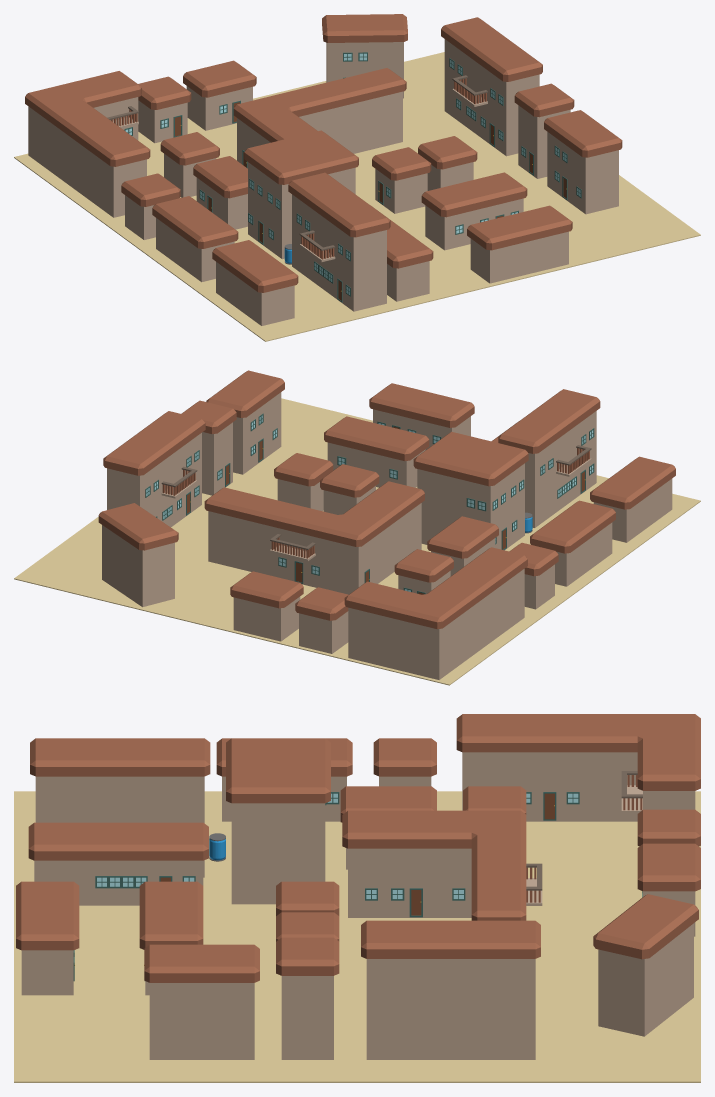
Rendered from Level_1.gltf.
3 views of the same model, one above another, from view 1: azimuth 30°, elevation 25°; view 2: azimuth 150°, elevation 25°; view 3: azimuth 270°, elevation 25° (orthographic). The views are drawn at different scales.
Parts seen in each view (by area): view 1: Floor, Roof.004, Base.006, Roof.012, Base.004, Base.016, Base.014, Roof.009, Base.022, Roof.005, Roof.014, Base.018 (+31 smaller); view 2: Floor, Roof.012, Roof.004, Base.004, Base.010, Base.014, Base.013, Base.006, Base.015, Base.016, Roof.009, Roof.014 (+28 smaller); view 3: Floor, Base.016, Roof.004, Roof.012, Base.004, Base.010, Base.022, Base.006, Base.013, Base.015, Roof.005, Roof.008 (+21 smaller).
Boxes of the visible parts, x1,y1,x2,y2 form: Floor: (14, 52, 700, 341); Roof.004: (25, 71, 150, 166); Base.006: (292, 194, 386, 311); Roof.012: (233, 68, 406, 142); Base.004: (28, 106, 146, 217); Base.016: (444, 39, 539, 156); Base.014: (299, 91, 402, 153); Roof.009: (244, 130, 358, 184); Base.022: (547, 132, 618, 214); Roof.005: (288, 172, 390, 237); Roof.014: (441, 17, 542, 81); Base.018: (470, 231, 568, 283); Floor: (14, 398, 700, 685); Roof.012: (204, 481, 424, 546); Roof.004: (344, 547, 527, 629); Base.004: (406, 569, 524, 679); Base.010: (417, 463, 524, 550); Base.014: (208, 511, 325, 588); Base.013: (325, 503, 421, 594); Base.006: (525, 411, 596, 527); Base.015: (102, 525, 174, 607); Base.016: (107, 433, 201, 527); Roof.009: (413, 431, 528, 486); Roof.014: (103, 411, 205, 475); Floor: (14, 791, 700, 1082); Base.016: (366, 959, 535, 1059); Roof.004: (456, 714, 700, 790); Roof.012: (342, 810, 526, 920); Base.004: (462, 752, 637, 821); Base.010: (231, 803, 325, 904); Base.022: (149, 983, 254, 1059); Base.006: (35, 776, 204, 877); Base.013: (348, 848, 471, 917); Base.015: (598, 923, 693, 1036); Roof.005: (30, 738, 210, 776); Roof.008: (28, 822, 208, 860).
Bounding box in the file's own units: 52.52 × 9.99 × 52.52.
